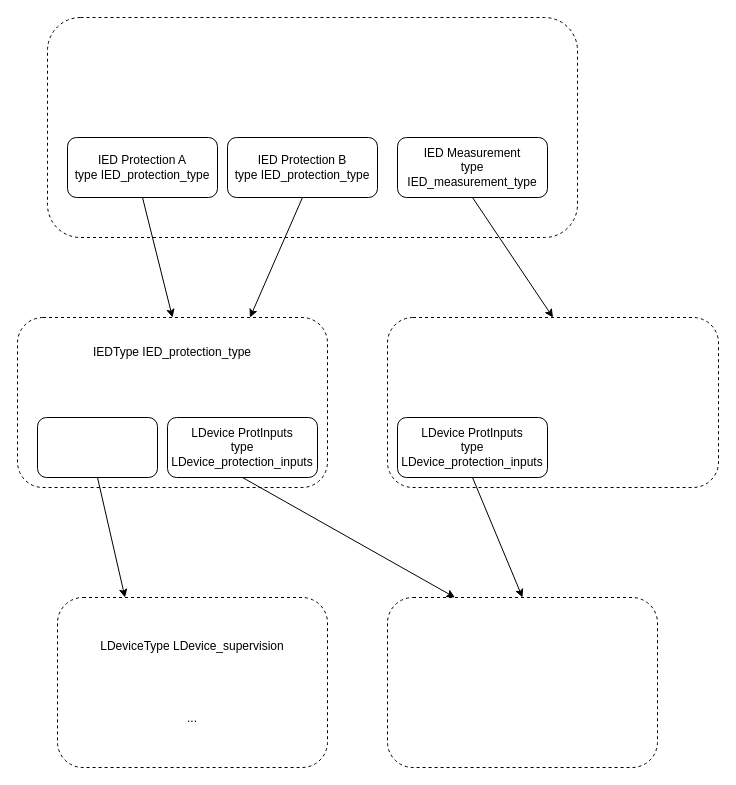
This 736x785 diagram has some shape labels left out. Here are the shapes that lost their labels. From the top down, the box of each, then its label:
(46, 16, 578, 238): BayType BusBar
(386, 316, 718, 488): IEDType IED_measurement_type
(36, 416, 158, 478): LDevice Supervision type LDevice_supervision
(386, 596, 658, 768): LDeviceType LDevice_protection_inputs ...
